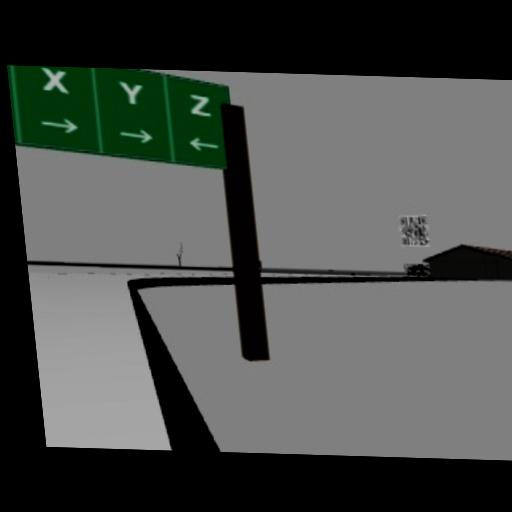Left: (187, 135, 221, 152)
Right: (39, 116, 80, 133), (118, 126, 153, 143)
X: (39, 66, 69, 93)
Y: (117, 81, 145, 104)
Z: (188, 93, 213, 116)
